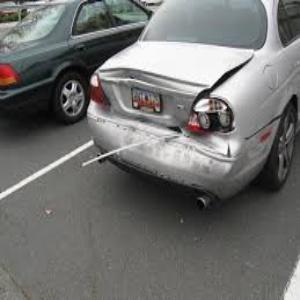bumper: (188, 197, 266, 265)
